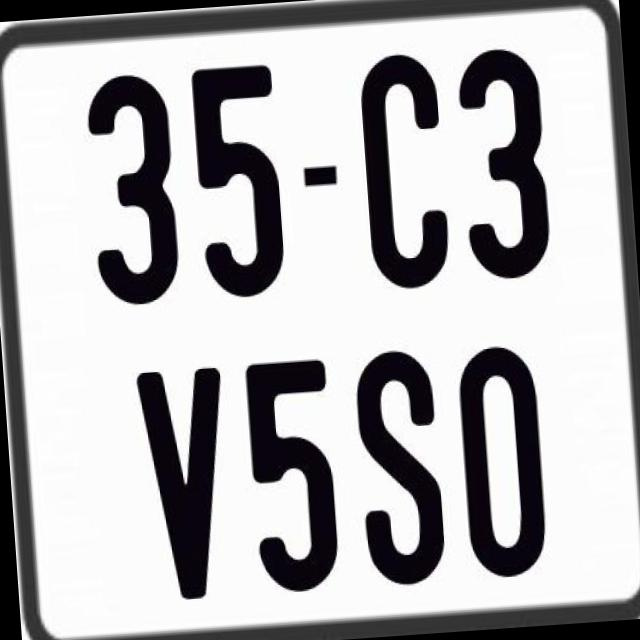0: (451, 339, 545, 575)
3: (84, 68, 185, 310), (452, 47, 554, 281)
5: (186, 60, 290, 306), (240, 358, 338, 594)
C: (356, 50, 453, 298)
S: (348, 343, 444, 581)
V: (136, 363, 243, 598)
